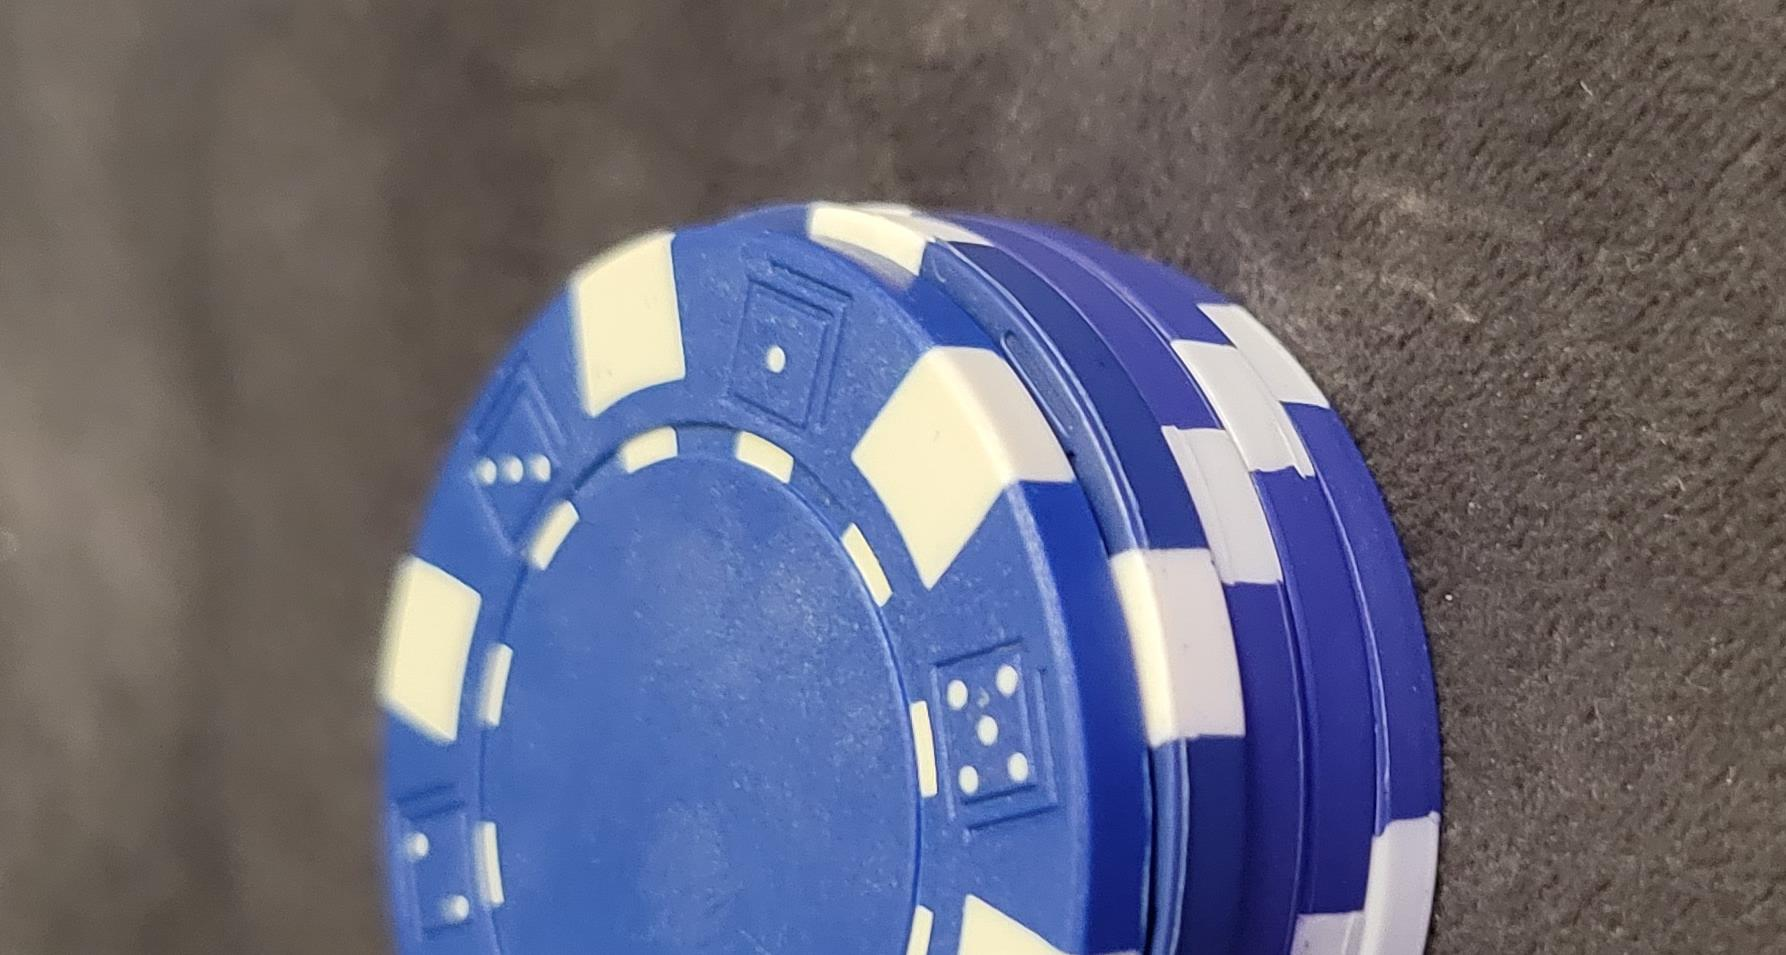Chip: (1, 295, 1117, 955)
